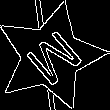M_SE: (16, 22, 85, 90)
